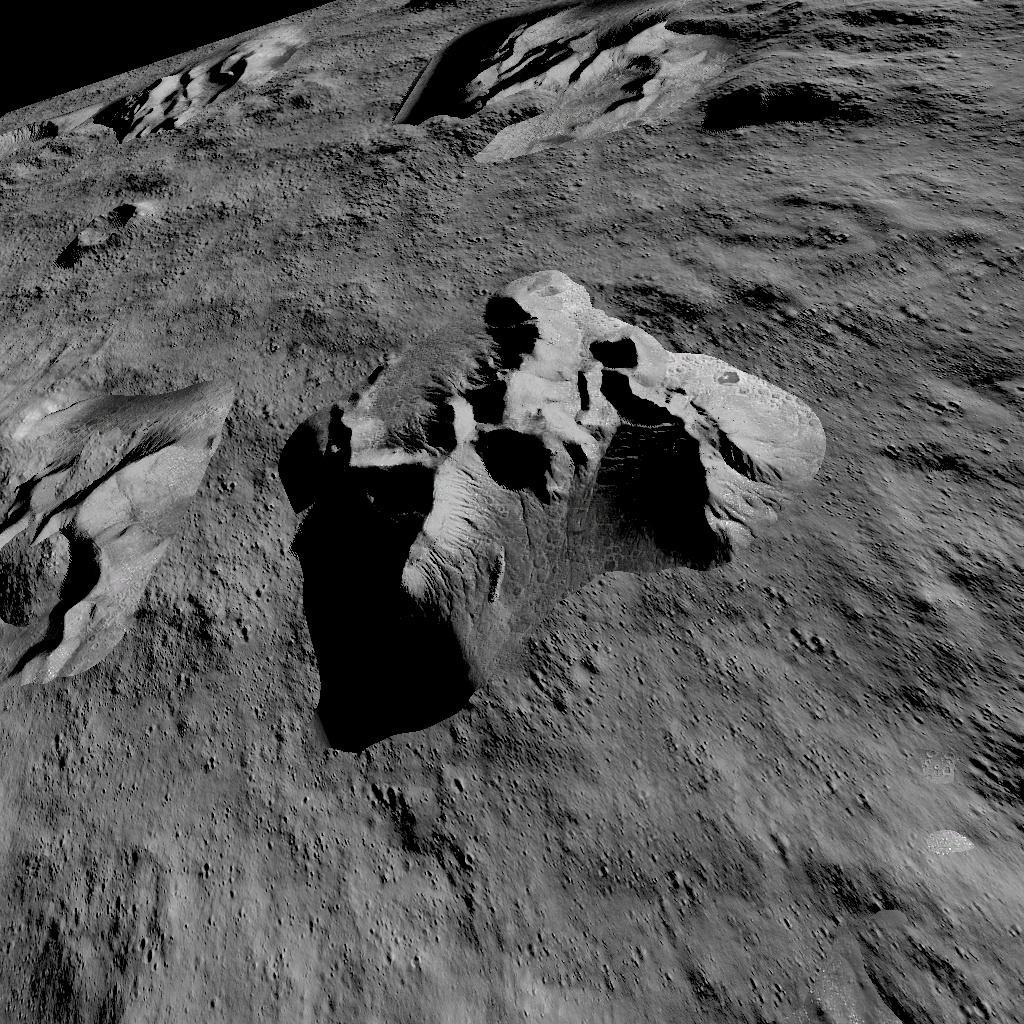Boulders: (276, 268, 826, 756), (0, 350, 236, 708), (398, 0, 888, 165), (92, 54, 272, 156)
Crater: (45, 194, 163, 268), (0, 110, 83, 186), (285, 90, 315, 116)
Plan surface: (25, 782, 1024, 1024), (843, 184, 1024, 746), (202, 164, 392, 252)
